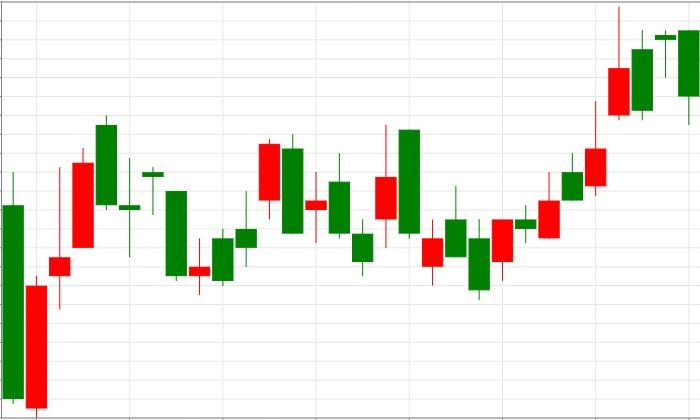bearish_engulfing_fall: (189, 134, 304, 295)
